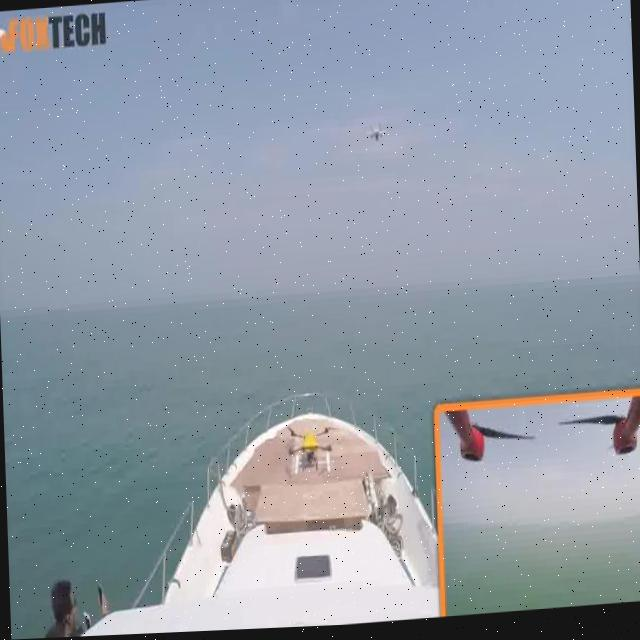drone: (284, 412, 339, 488), (358, 108, 392, 154)
